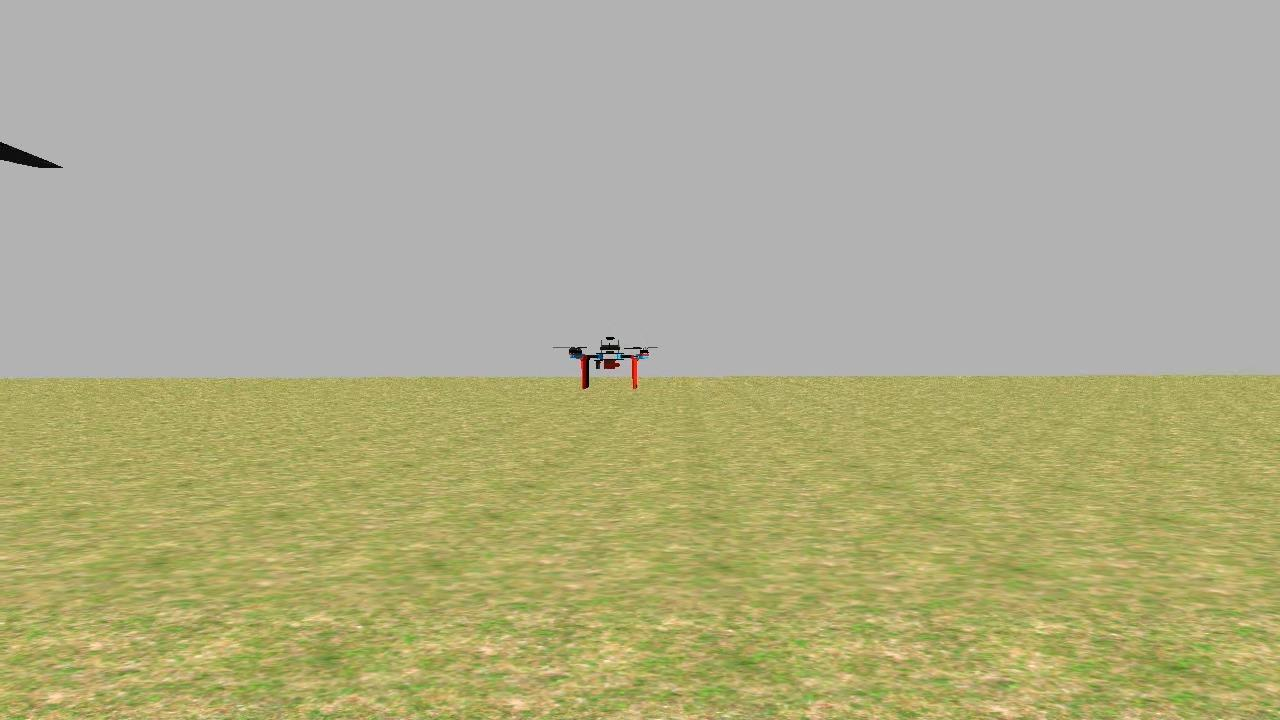UAV: (542, 324, 664, 386)
